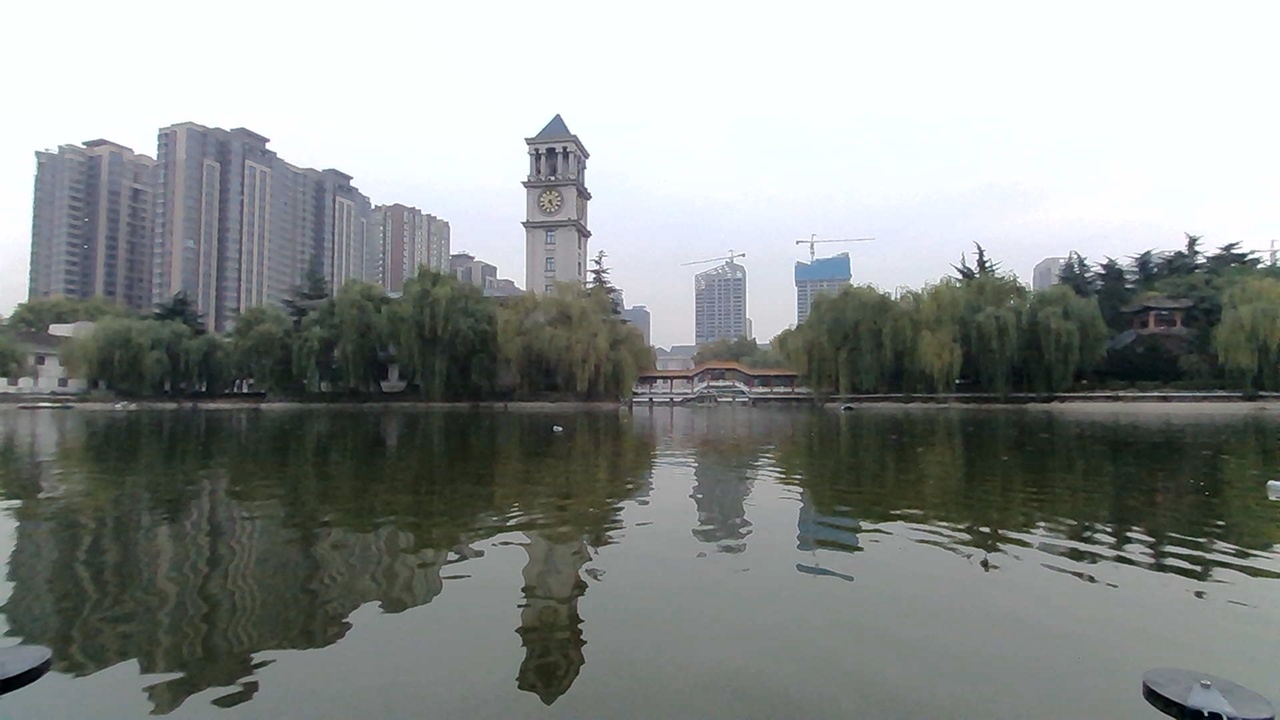bottle: (546, 413, 577, 434), (1265, 478, 1280, 499)
